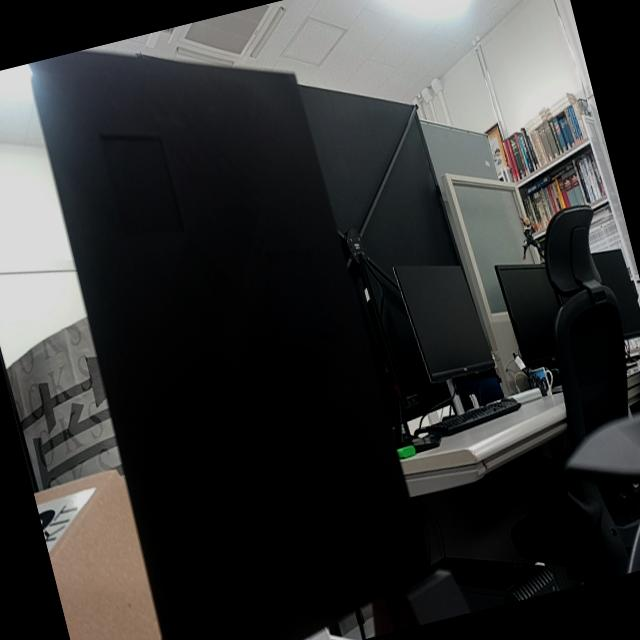Wall: (38, 72, 432, 640)
